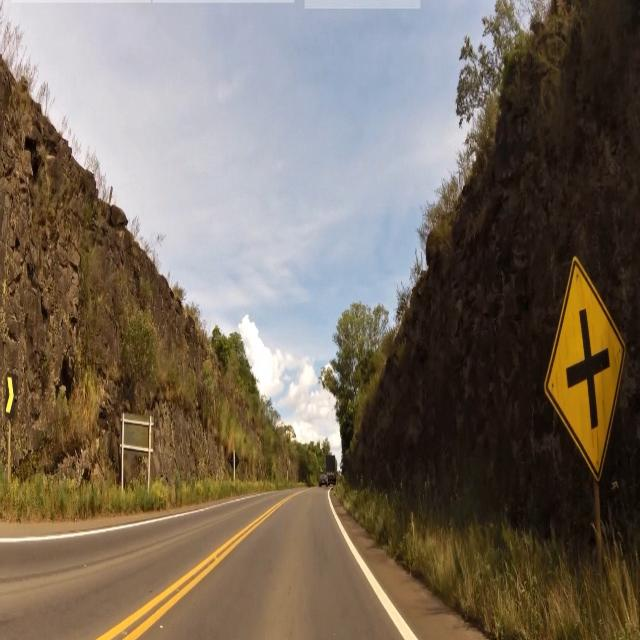A-6: (538, 262, 632, 481)
